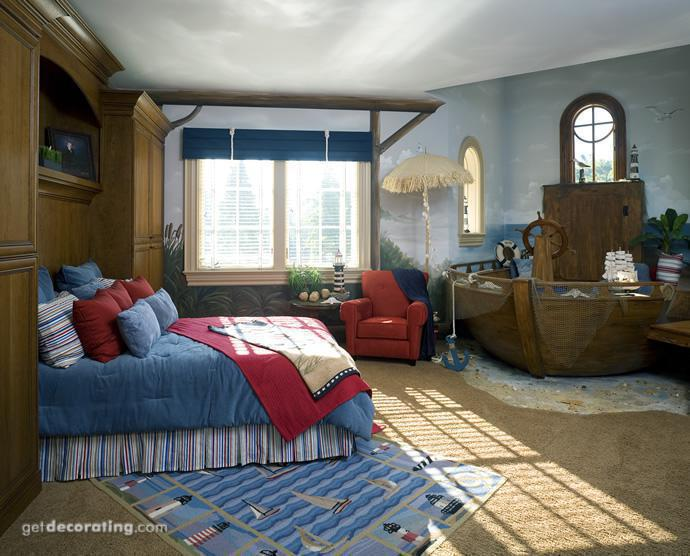Cama: (49, 270, 360, 465)
